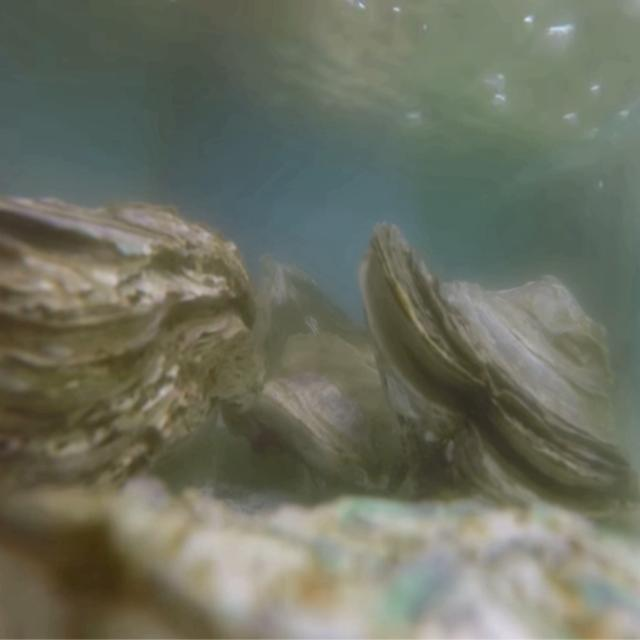Oyster-Closed: (0, 195, 256, 526)
Oyster-Indeterminate: (0, 479, 640, 640), (258, 334, 417, 504), (266, 262, 371, 372)
Oyster-Open: (358, 222, 640, 536)
